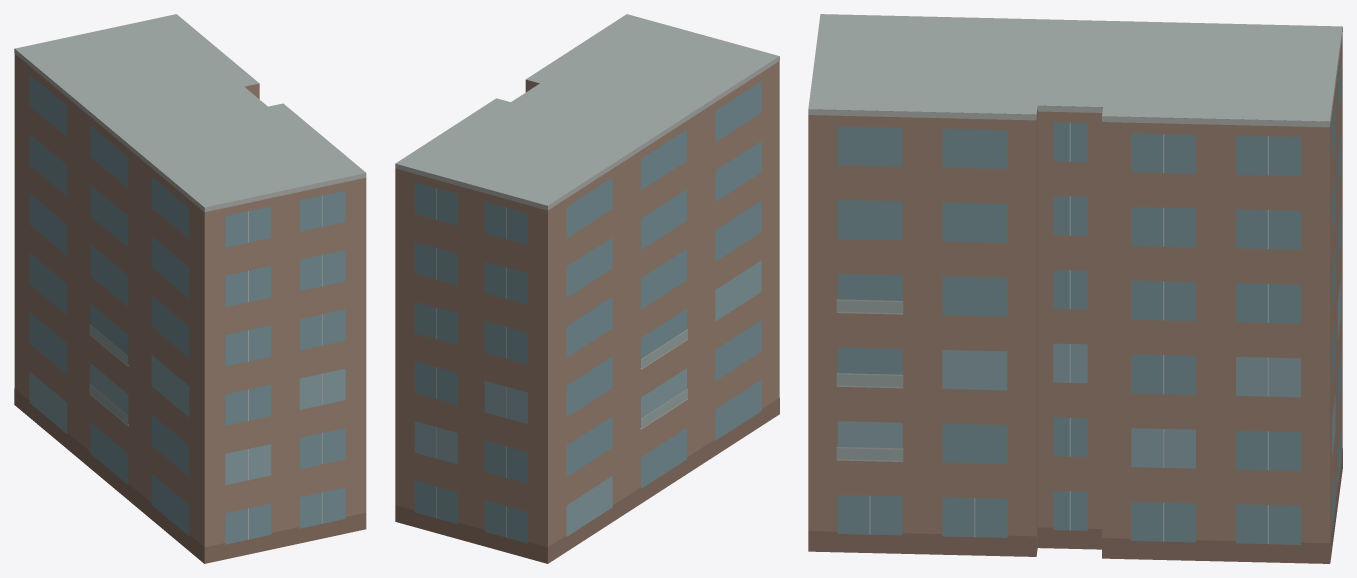
File: survey-upis-32552667.glb
3 renders of one model, left to right at view 1: azimuth 30°, elevation 25°; view 2: azimuth 150°, elevation 25°; view 3: azimuth 270°, elevation 25°, orthographic. The views are drawn at different scales.
Visible parts, largest first — view 1: survey-upis-32552667.tmp; view 2: survey-upis-32552667.tmp; view 3: survey-upis-32552667.tmp.
Boxes of the visible parts, x1=… form: survey-upis-32552667.tmp: x1=14, y1=14, x2=366, y2=563; survey-upis-32552667.tmp: x1=395, y1=14, x2=779, y2=563; survey-upis-32552667.tmp: x1=808, y1=14, x2=1342, y2=563.
Bounding box in the file's own units: 9.54 × 18.3 × 20.05.
